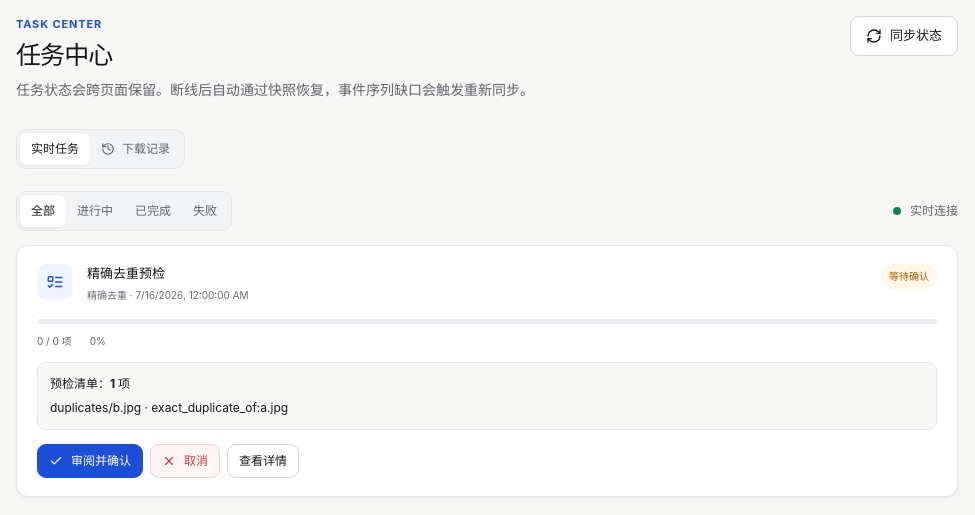
Scenario: TasksView destructive preflight › shows a persistent download history section with human-readable totals
Click the button "下载记录".
click(136, 149)  # box x1=90 y1=133 x2=181 y2=165
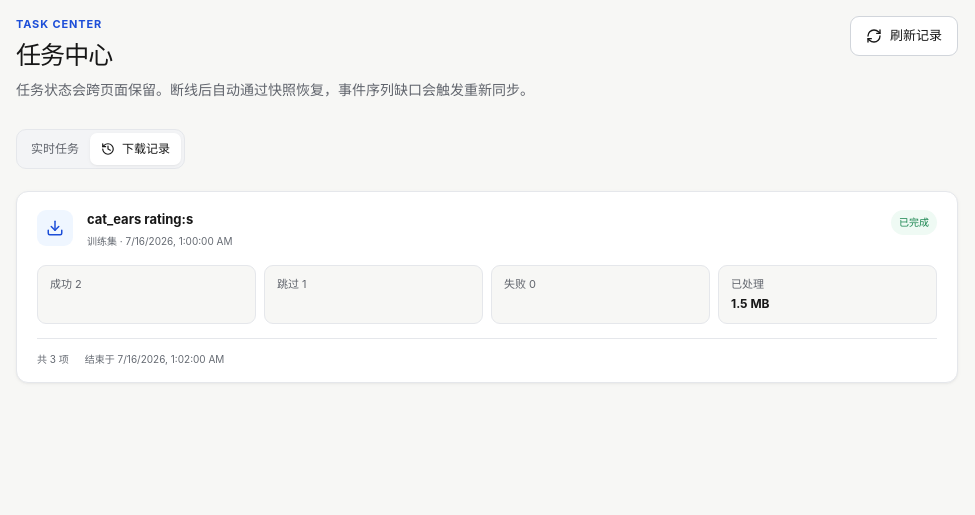
Expected: the text "cat_ears rating:s" is shown, x1=87 y1=211 x2=193 y2=227
Expected: the text "训练集 · 7/16/2026, 1:00:00 AM" is shown, x1=87 y1=235 x2=232 y2=247
Expected: the text "1.5 MB" is shown, x1=731 y1=296 x2=770 y2=311
